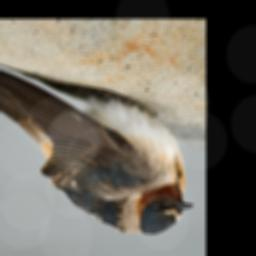Swallow: (0, 60, 194, 235)
